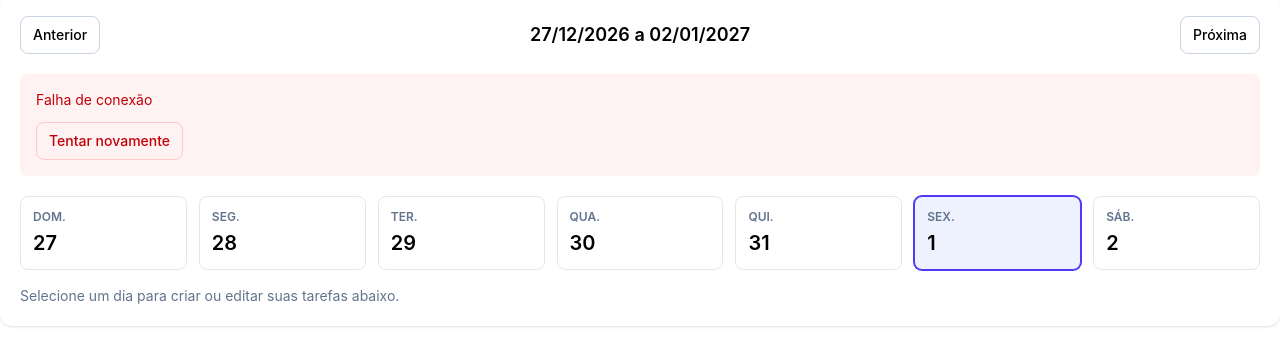
Scenario: WeekCalendar › mostra a falha sem afirmar que não há tarefas e permite tentar novamente
Expected: the message reads "Falha de conexão", [36,91,152,108]
Expected: the text "Sem tarefas" is not shown
Click the button "Tentar novamente". click: coordinates (110, 141)
box: [36,122,183,160]
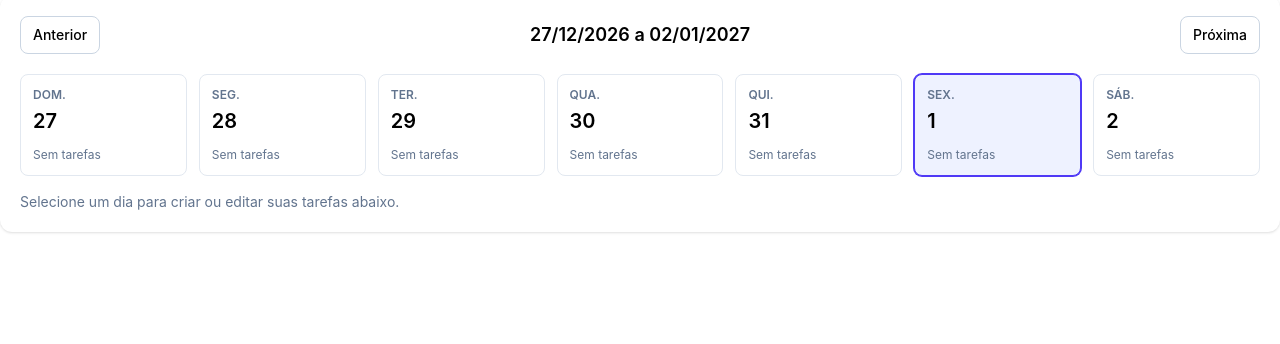
Expected: the text "Sem tarefas" is shown 7 times
Expected: the message "Falha de conexão" is gone
